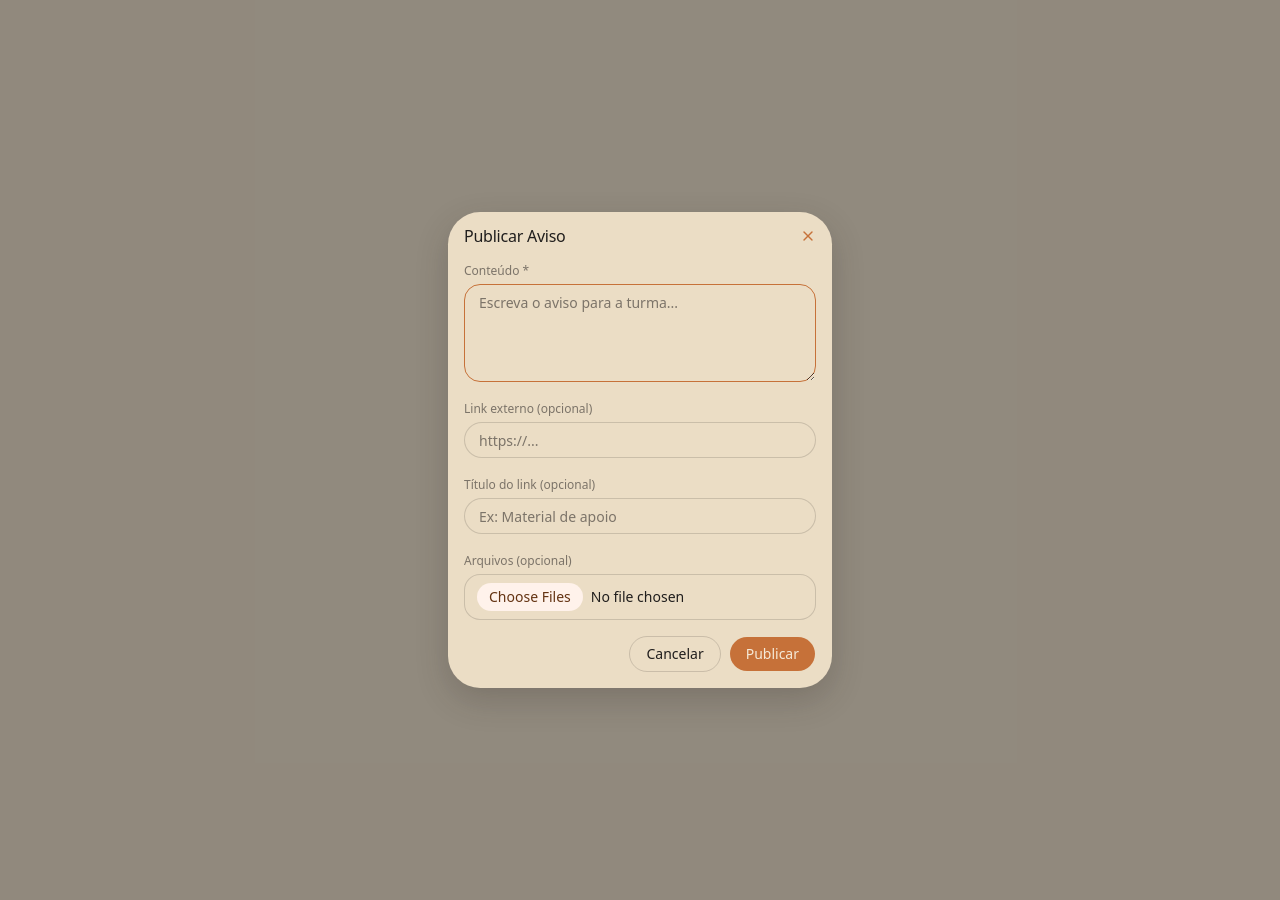
Test: AnnouncementForm › shows validation error for empty content on submit
The image size is (1280, 900).
Click the button "Publicar". click: point(772, 654)
box: [729, 636, 816, 672]
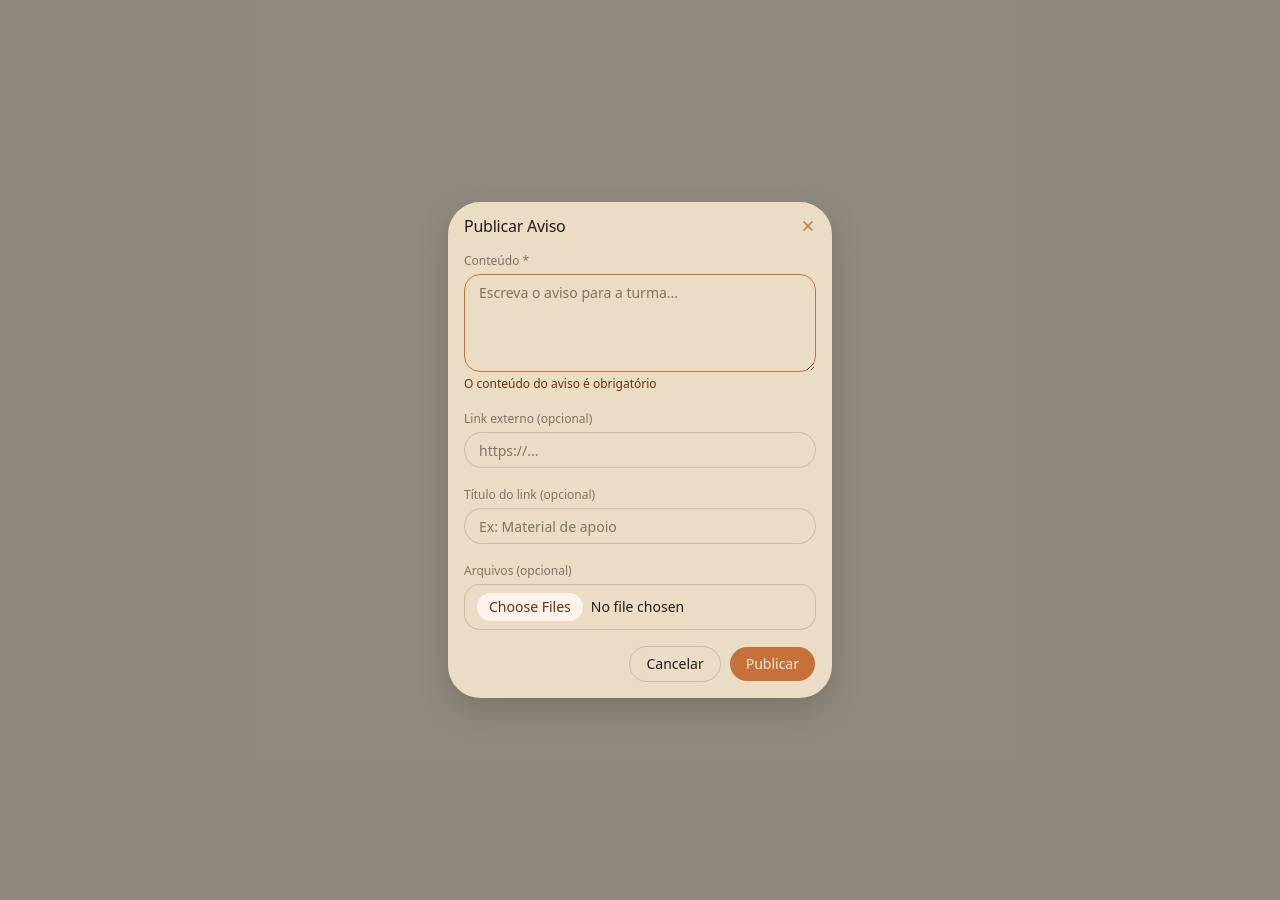
Expected: the text "O conteúdo do aviso é obrigatório" is shown, [464, 375, 657, 392]
